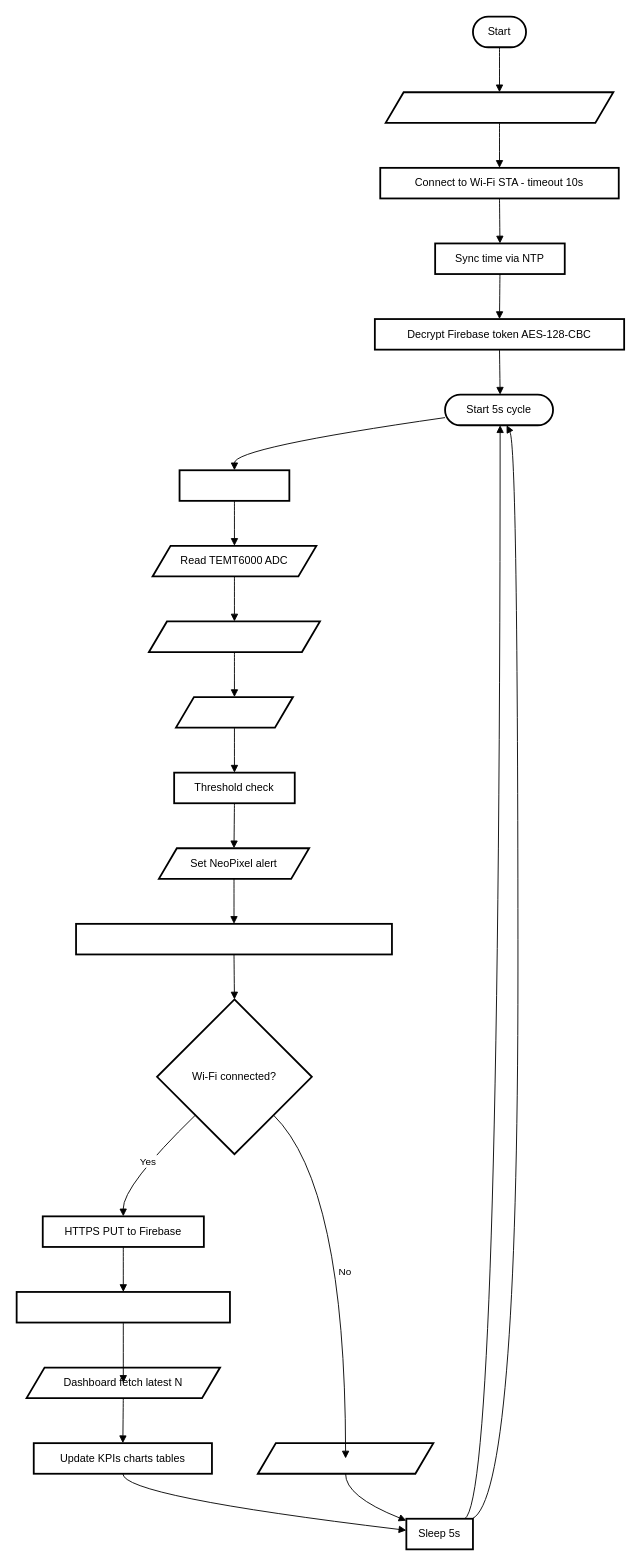
Some shapes in this 640 by 1565 pixel diagram are drawn without their labels. Each missing label, with the centre of its shape:
"Append to buffer.json" goes at (345,1458).
"Enter SSID, password, AES key" goes at (499,107).
"Get timestamp" goes at (234,485).
"Pack JSON: timestamp, temperature, light_lux" goes at (233,938).
"Print log line" goes at (234,712).
"Read DS18B20 1-Wire" goes at (234,636).
"Try re-upload buffered records" goes at (122,1307).
